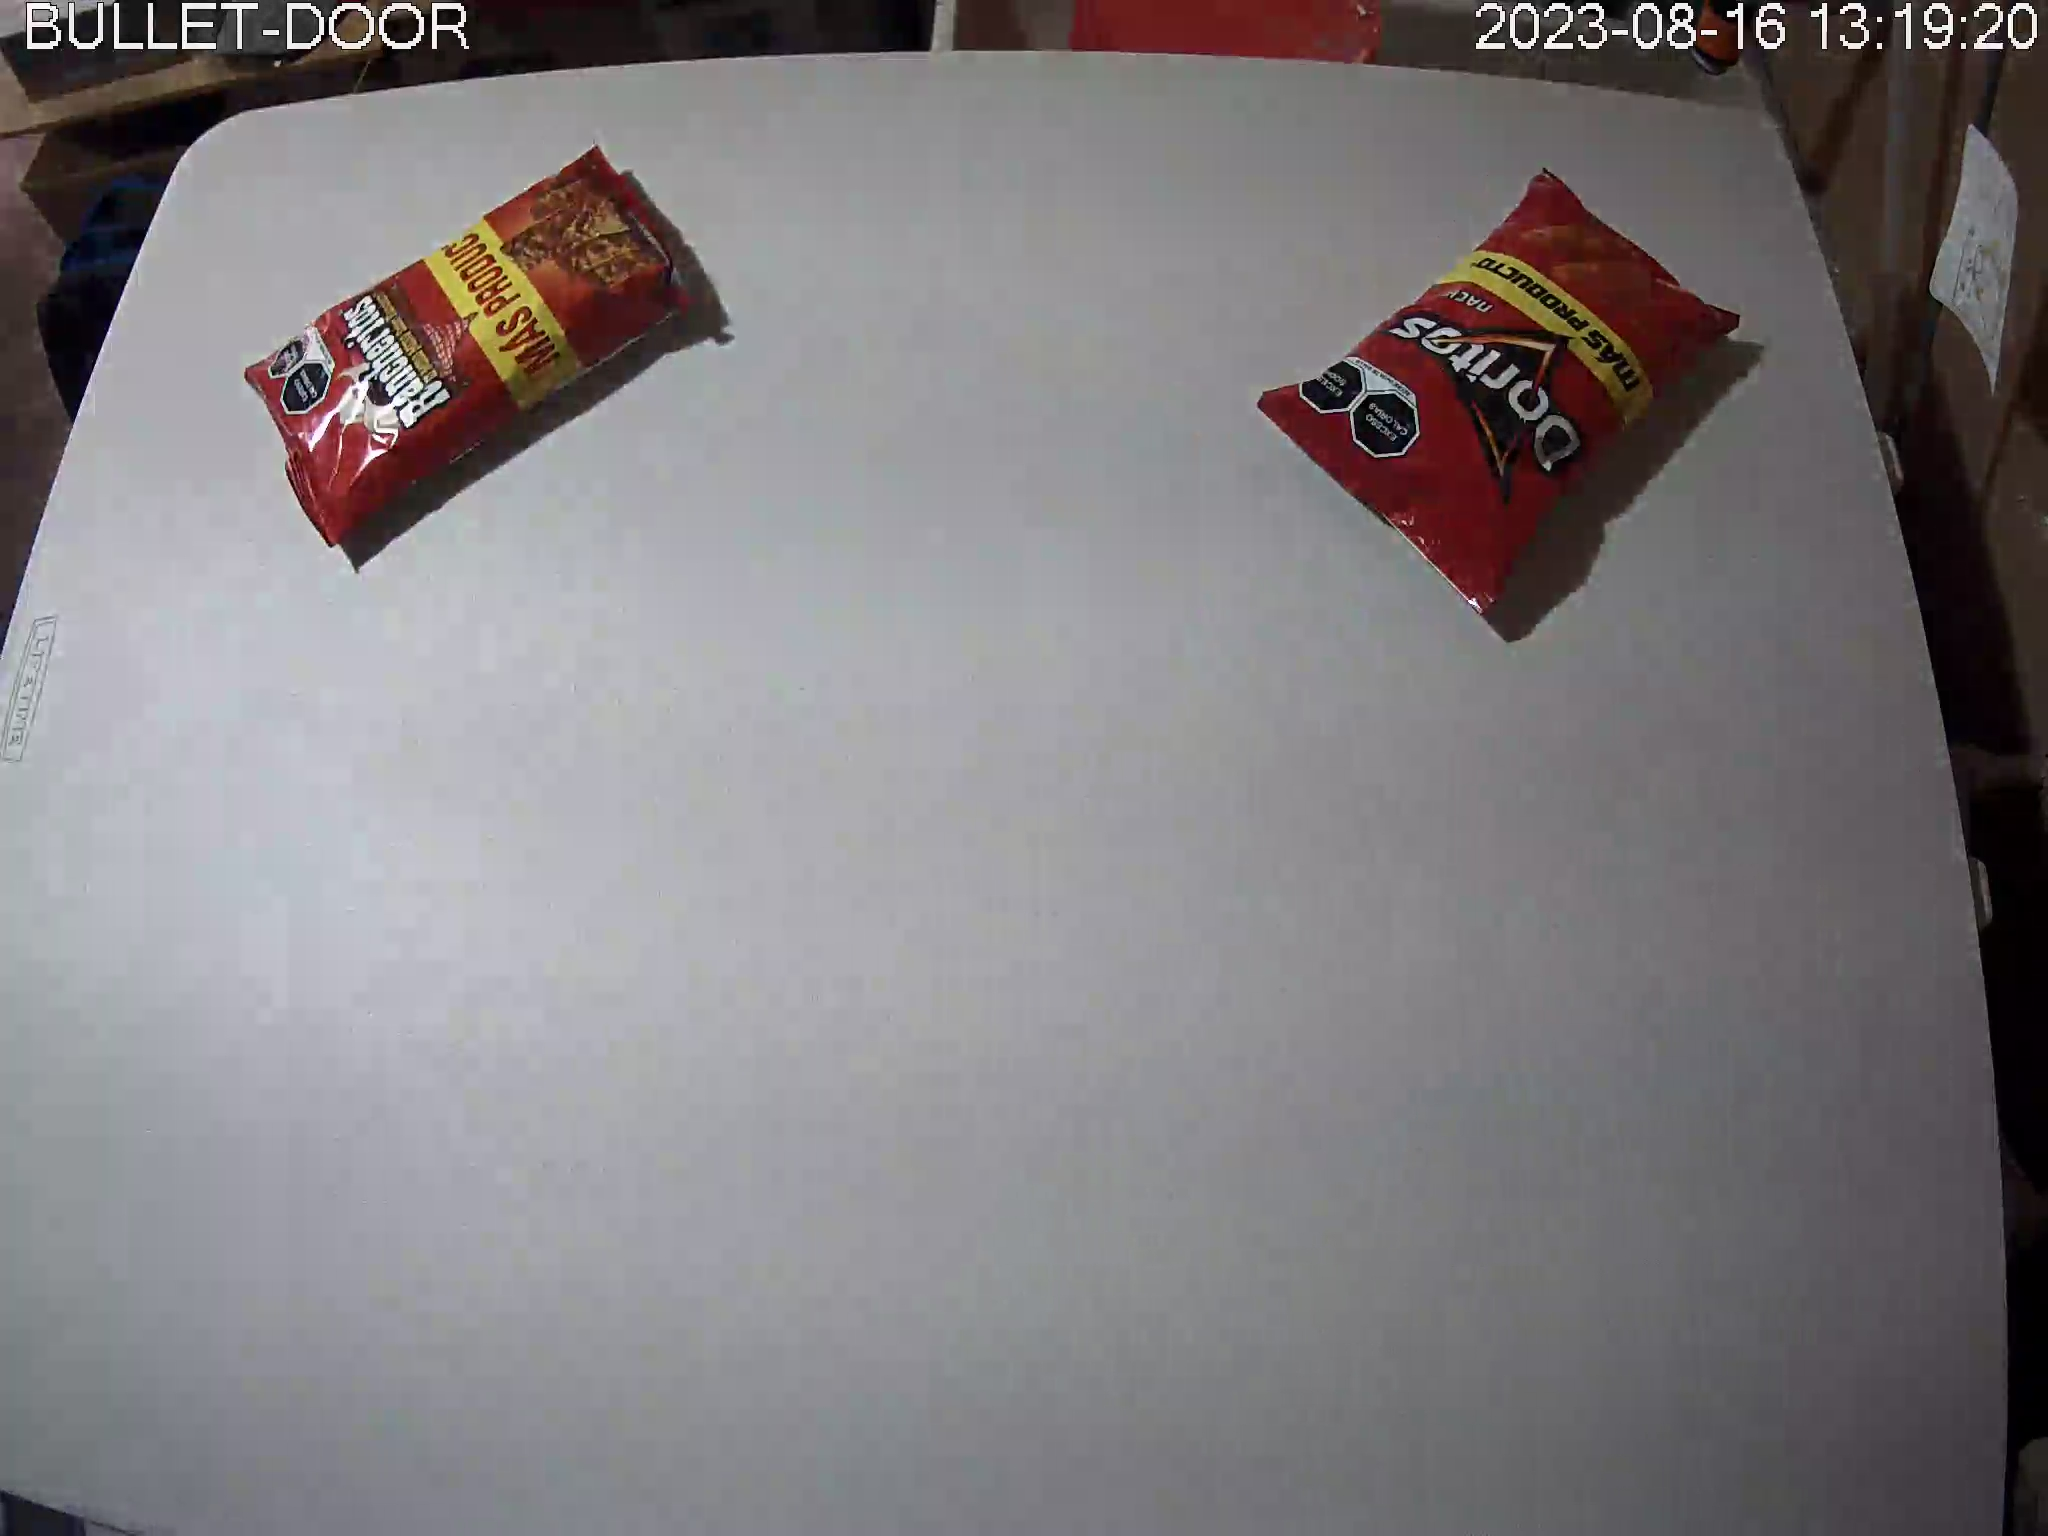DoritosN_61_F: (1256, 165, 1743, 623)
Rancheritos_58_F: (244, 137, 706, 552)
